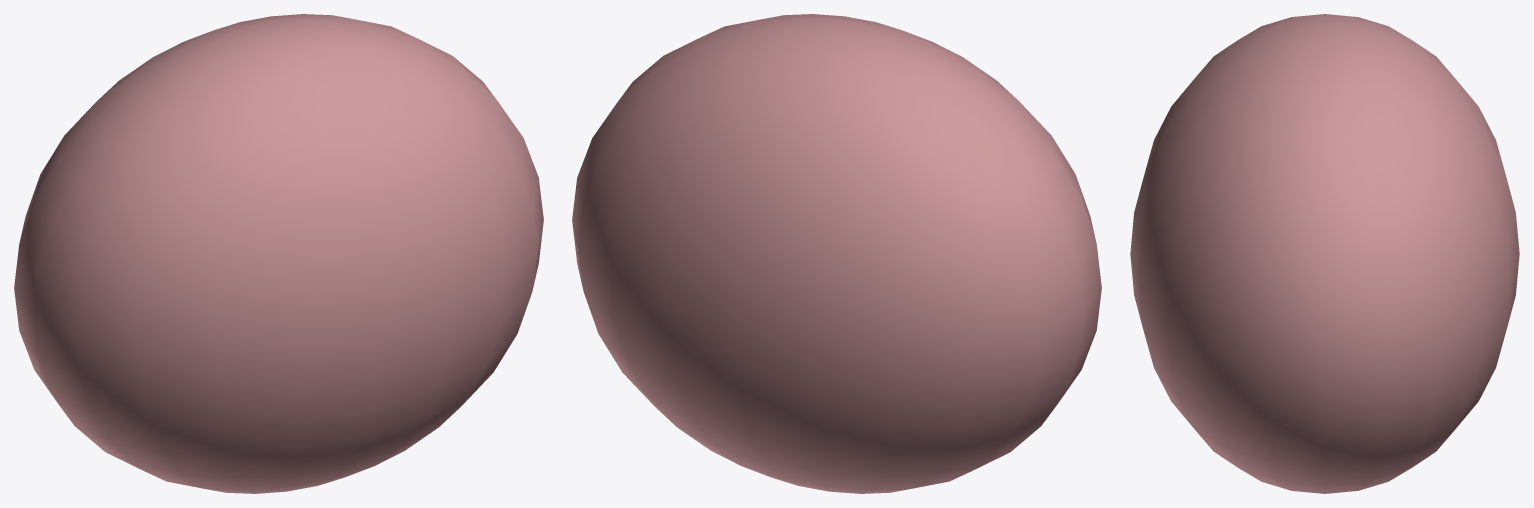
The model's file is alveolus.glb.
3 renders of one model, left to right at view 1: azimuth 30°, elevation 25°; view 2: azimuth 150°, elevation 25°; view 3: azimuth 270°, elevation 25°, orthographic. The views are drawn at different scales.
Visible parts, largest first — view 1: micro-alveolus; view 2: micro-alveolus; view 3: micro-alveolus.
Boxes of the visible parts, x1,y1,x2,y2 form: micro-alveolus: [14, 14, 543, 493]; micro-alveolus: [572, 14, 1101, 493]; micro-alveolus: [1130, 14, 1519, 493].
Size of the model in its own units: 1.4 by 1.2 by 1.
